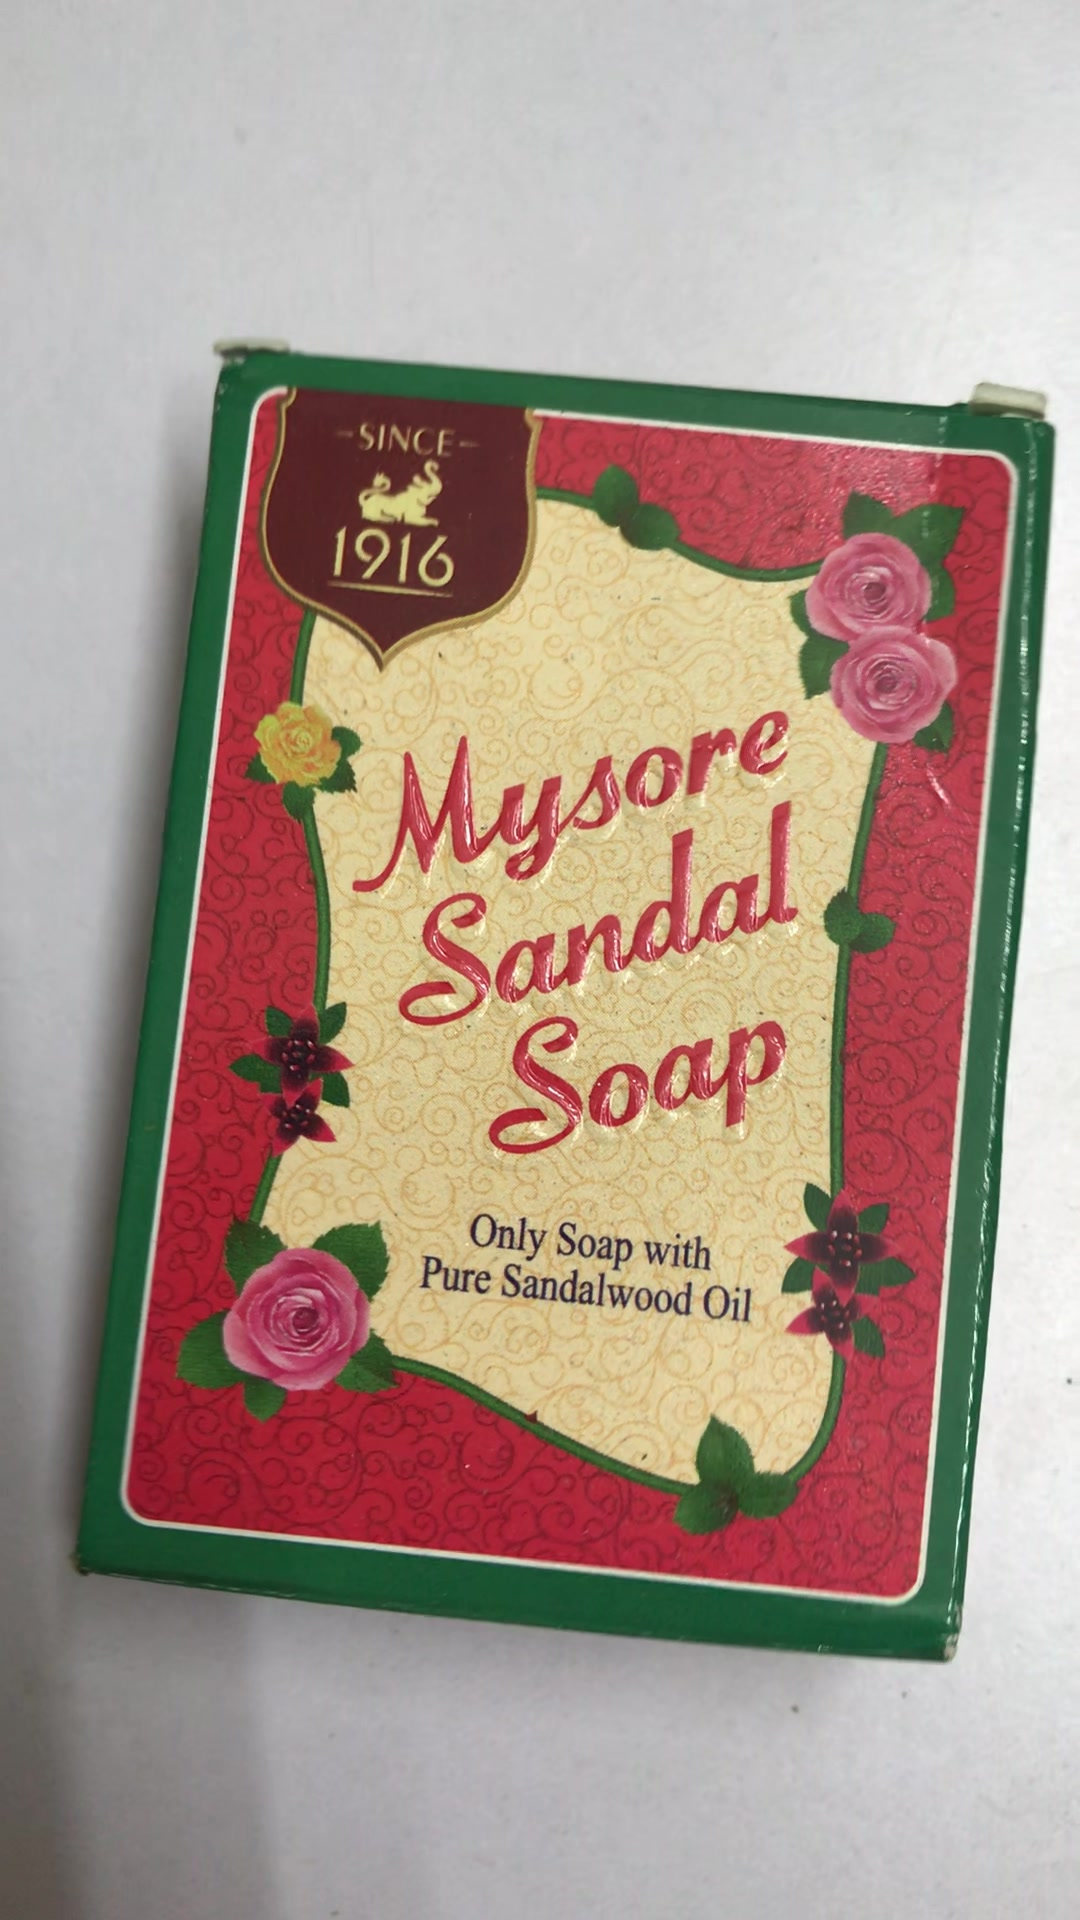mysore sandal soap: (70, 328, 1059, 1662)
